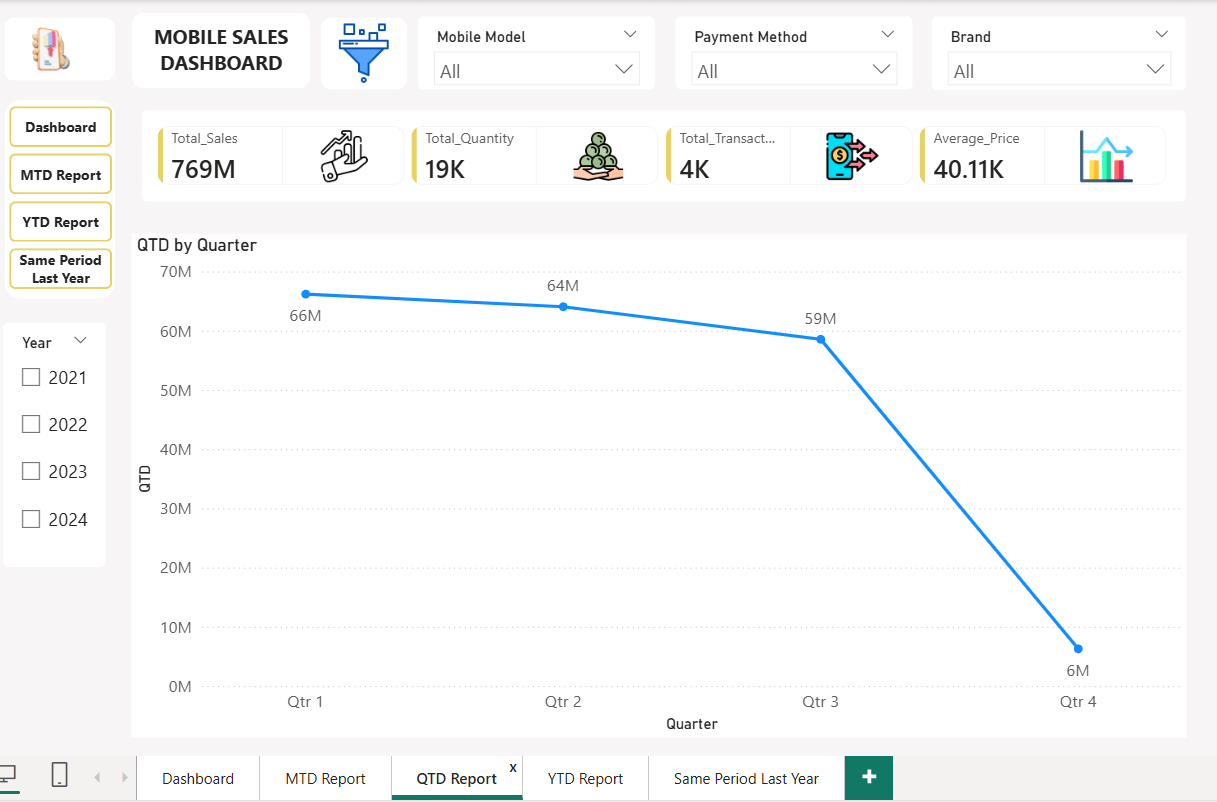

The page's visual inventory and layout, read from the dashboard file:
{"tool":"powerbi","page":{"name":"QTD Report","canvas":[1280,720],"ordinal":2},"visuals":[{"type":"shape","box":[11,16.5,105.7,60.4],"z":0},{"type":"image","box":[17.8,23.3,75.5,45.3],"z":1000},{"type":"shape","box":[11,94.7,105.7,189.4],"z":2000},{"type":"cardVisual","fields":{"Data":["fact_sales_data.Total_Sales","fact_sales_data.Total_Quantity","fact_sales_data.Total_Transactions","fact_sales_data.Average_Price"]},"box":[132.5,95,1013.8,106.2],"z":3000},{"type":"slicer","fields":{"Values":["fact_sales_data.Mobile Model"]},"box":[395,6.2,245,88.8],"z":4000},{"type":"slicer","fields":{"Values":["fact_sales_data.Payment Method"]},"box":[640,6.2,245,88.8],"z":5000},{"type":"slicer","fields":{"Values":["fact_sales_data.Brand"]},"box":[884.5,6,261.9,89.3],"z":6000},{"type":"shape","box":[312.5,16.2,82.5,68.8],"z":7000},{"type":"image","box":[312.5,21.2,82.5,58.8],"z":8000},{"type":"shape","box":[132.5,12.5,170,72.5],"z":9000},{"type":"textbox","box":[142.5,16.2,148.8,63.8],"z":10000},{"type":"lineChart","fields":{"Category":["dim_calendar.Date.Variation.Date Hierarchy.Year","dim_calendar.Date.Variation.Date Hierarchy.Quarter"],"Y":["fact_sales_data.QTD"]},"box":[132.1,222.6,1004.8,479.8],"z":11000},{"type":"pageNavigator","box":[15,101.2,98.8,175],"z":11001},{"type":"slicer","fields":{"Values":["dim_calendar.Date.Variation.Date Hierarchy.Year"]},"box":[0,297.6,116.7,252.4],"z":11002}]}

Visuals, with their boxes on the page's 1280x720 design canvas (x1, y1, x2, y2). These are canvas units, not pixel positions in the 1217x802 screenshot, which may show the page scaled, cropped or inside an application window:
shape: left=11, top=16, right=117, bottom=77
image: left=18, top=23, right=93, bottom=69
shape: left=11, top=95, right=117, bottom=284
cardVisual - fact_sales_data.Total_Sales x fact_sales_data.Total_Quantity: left=132, top=95, right=1146, bottom=201
slicer - fact_sales_data.Mobile Model: left=395, top=6, right=640, bottom=95
slicer - fact_sales_data.Payment Method: left=640, top=6, right=885, bottom=95
slicer - fact_sales_data.Brand: left=884, top=6, right=1146, bottom=95
shape: left=312, top=16, right=395, bottom=85
image: left=312, top=21, right=395, bottom=80
shape: left=132, top=12, right=302, bottom=85
textbox: left=142, top=16, right=291, bottom=80
lineChart - dim_calendar.Date.Variation.Date Hierarchy.Year x dim_calendar.Date.Variation.Date Hierarchy.Quarter: left=132, top=223, right=1137, bottom=702
pageNavigator: left=15, top=101, right=114, bottom=276
slicer - dim_calendar.Date.Variation.Date Hierarchy.Year: left=0, top=298, right=117, bottom=550
